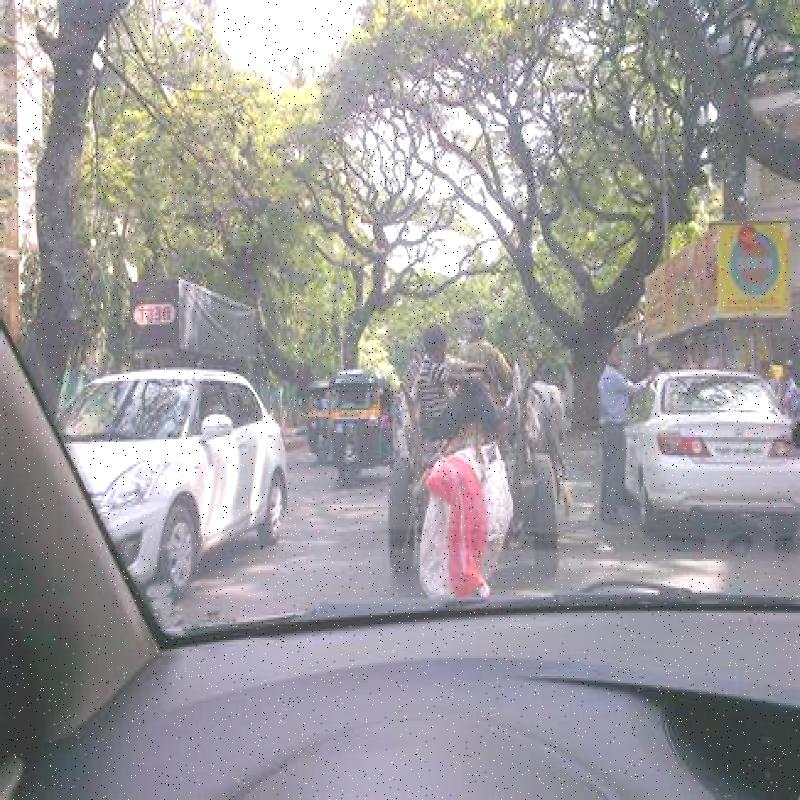auto: (328, 363, 399, 490)
car: (55, 369, 310, 594), (627, 373, 794, 533)
